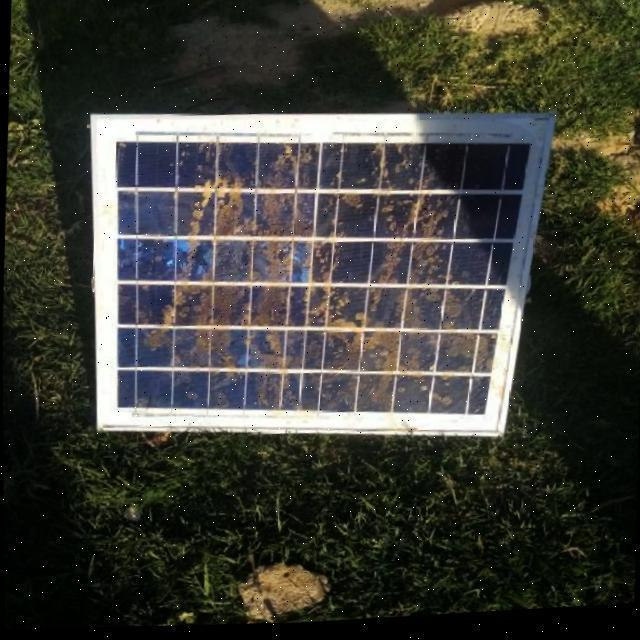Anomaly Solar Panel: (82, 115, 550, 458)
Surface Contaminant: (122, 142, 499, 418)
